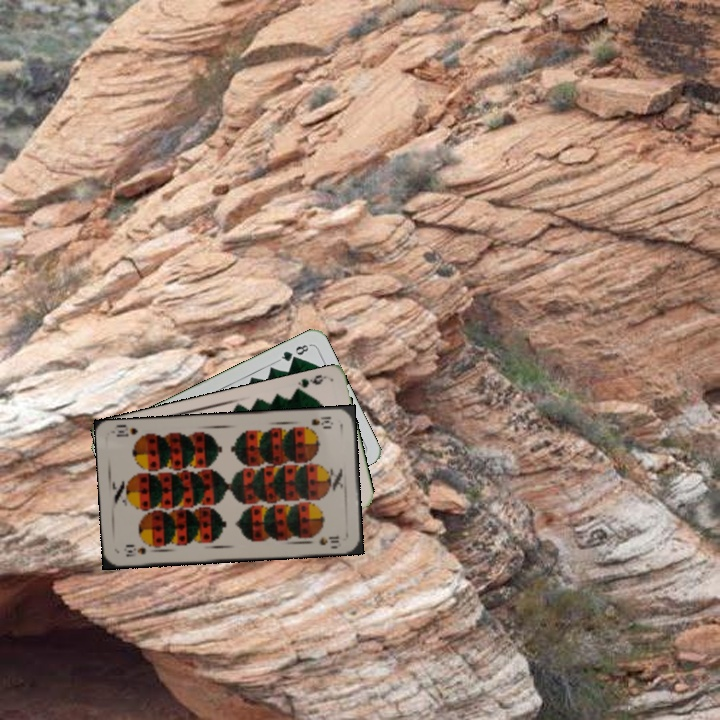G8: (275, 340, 313, 364)
G9: (291, 371, 329, 395)
S10: (307, 412, 336, 430), (120, 543, 148, 559)
